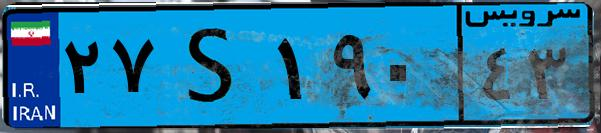0: (385, 28, 445, 110)
1: (270, 28, 330, 110)
2: (57, 26, 110, 100)
3: (525, 38, 570, 115)
4: (475, 38, 525, 113)
7: (110, 28, 158, 98)
9: (330, 28, 385, 110)
S: (158, 12, 270, 120)
